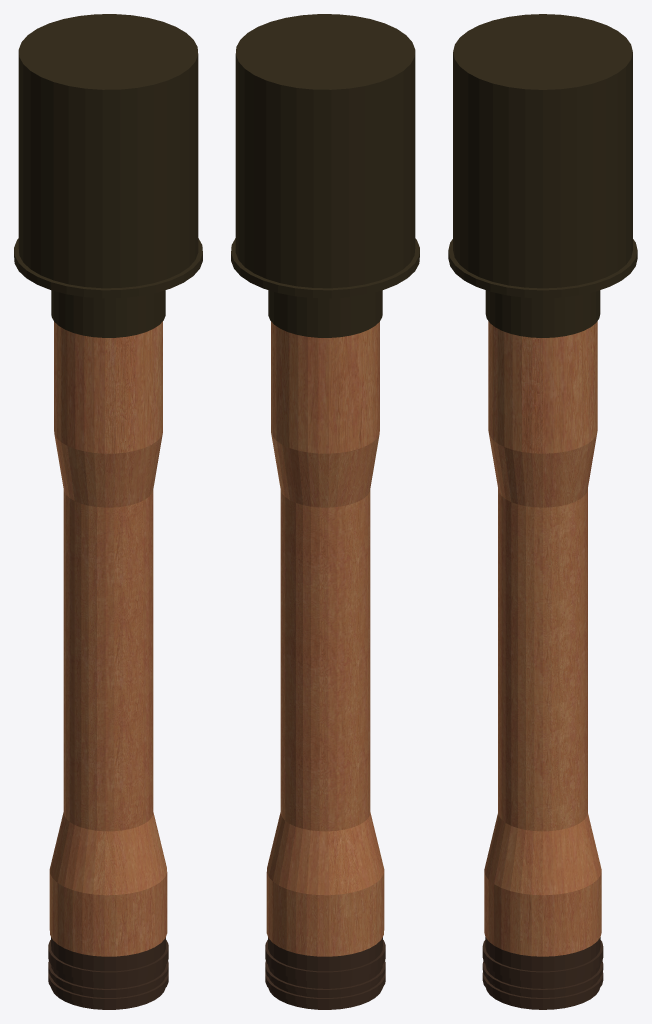
File: Stick Grenade.obj
3 renders of one model, left to right at view 1: azimuth 30°, elevation 25°; view 2: azimuth 150°, elevation 25°; view 3: azimuth 270°, elevation 25°, orthographic.
Parts seen in each view (by area): view 1: Stick_Grenade, Stick_Grenade_Cap; view 2: Stick_Grenade, Stick_Grenade_Cap; view 3: Stick_Grenade, Stick_Grenade_Cap.
Boxes of the visible parts, box(x1,y1,x2,y2) form: Stick_Grenade: box(14, 14, 202, 956); Stick_Grenade_Cap: box(48, 937, 168, 1009); Stick_Grenade: box(231, 14, 419, 956); Stick_Grenade_Cap: box(265, 937, 385, 1009); Stick_Grenade: box(448, 14, 637, 956); Stick_Grenade_Cap: box(482, 937, 603, 1009).
Size of the model in its own units: 0.8506 by 4.63 by 0.8506.
3 materials, 1 textured.
